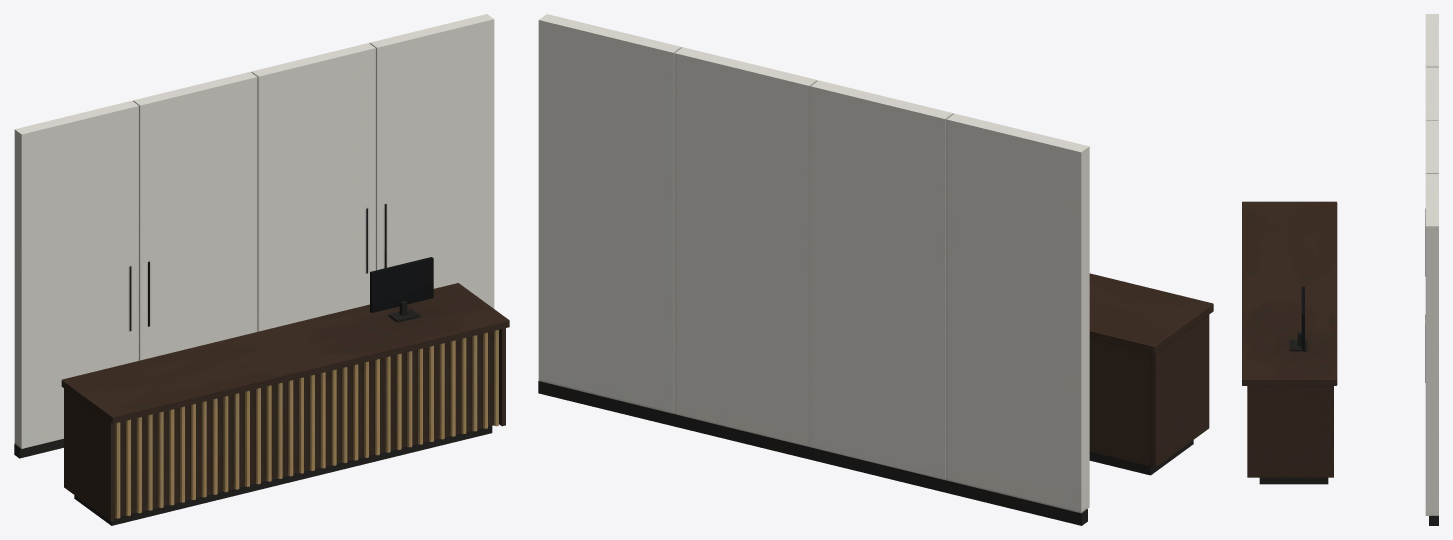
Rendered from lobby_desk.glb.
3 views of the same model, side by side, from view 1: azimuth 30°, elevation 25°; view 2: azimuth 150°, elevation 25°; view 3: azimuth 270°, elevation 25° (orthographic). The views are drawn at different scales.
Visible parts, largest first — view 1: lobby_desk; view 2: lobby_desk; view 3: lobby_desk.
Boxes of the visible parts, <box> form: lobby_desk: <box>14,14,509,525</box>; lobby_desk: <box>538,14,1213,525</box>; lobby_desk: <box>1242,14,1438,525</box>.
Size of the model in its own units: 4.68 by 3.02 by 1.8.
1 material, 1 textured.
